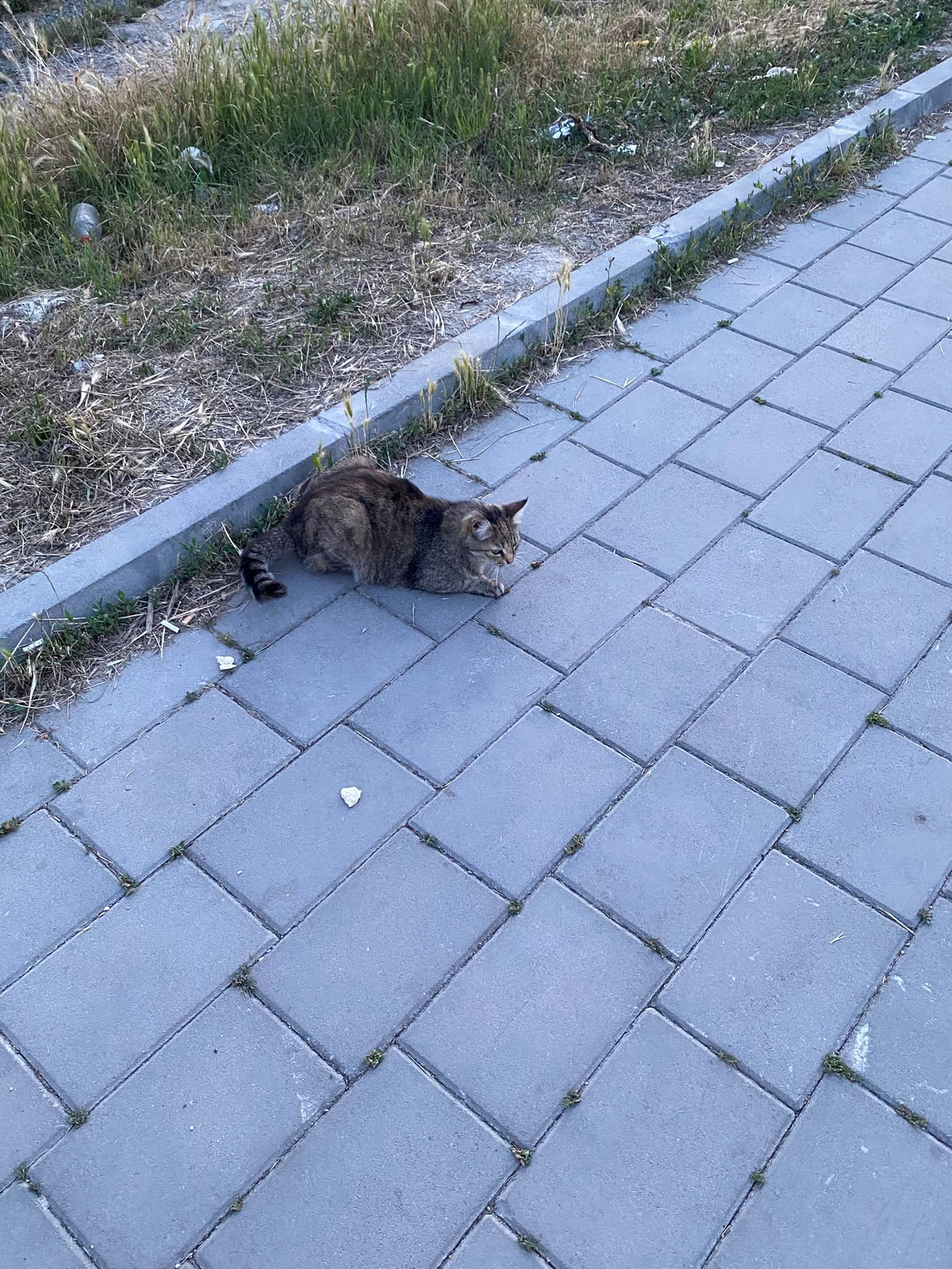macka: (240, 461, 530, 601)
